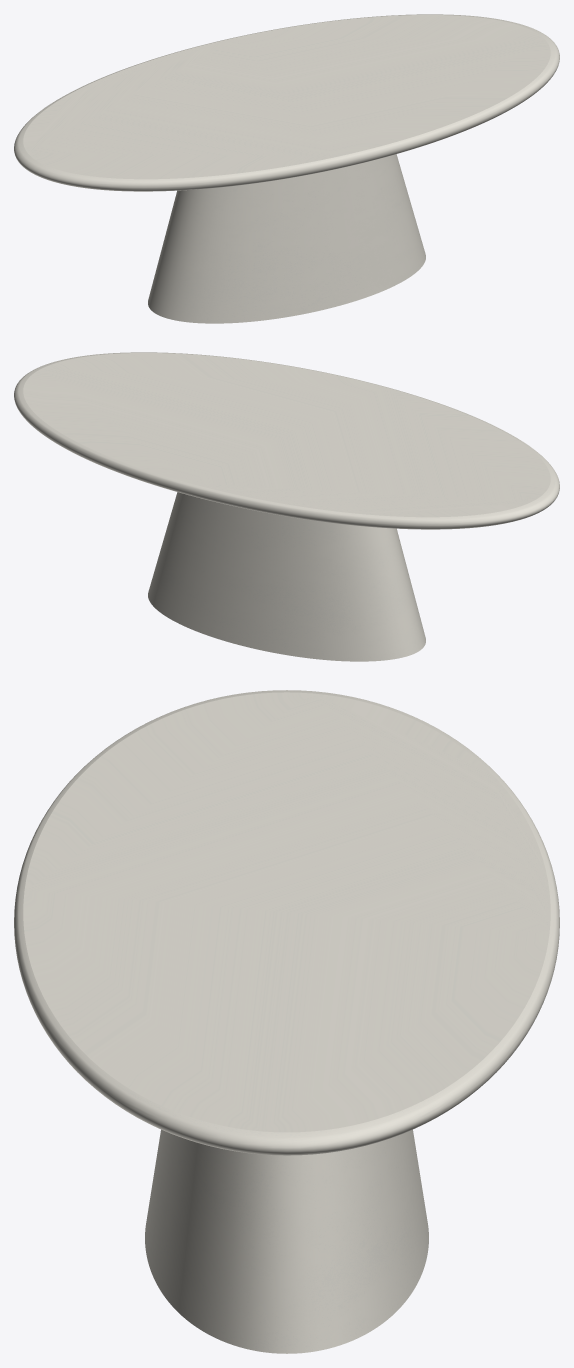
The model's file is pale_ellips_round_eqone.glb.
3 views of the same model, one above another, from view 1: azimuth 30°, elevation 25°; view 2: azimuth 150°, elevation 25°; view 3: azimuth 270°, elevation 25° (orthographic). The views are drawn at different scales.
Parts seen in each view (by area): view 1: round_ellips, eqone; view 2: round_ellips, eqone; view 3: round_ellips, eqone.
Boxes of the visible parts, left/top/right/bottom form: round_ellips: left=14, top=14, right=559, bottom=191; eqone: left=148, top=154, right=425, bottom=323; round_ellips: left=14, top=352, right=559, bottom=529; eqone: left=148, top=492, right=425, bottom=661; round_ellips: left=14, top=690, right=559, bottom=1155; eqone: left=145, top=1129, right=428, bottom=1353.
Size of the model in its own units: 7.5 by 2.5 by 3.8.
1 material, 1 textured.
